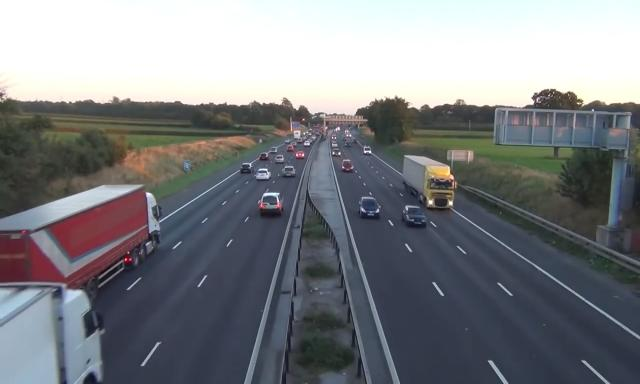caminhaog: (1, 184, 162, 302), (399, 155, 458, 209)
caminhaop: (0, 280, 107, 384)
carro: (259, 191, 283, 218), (402, 206, 427, 228), (358, 197, 380, 219), (255, 168, 272, 181), (341, 159, 354, 173), (282, 166, 296, 178), (240, 163, 253, 174), (362, 145, 373, 156), (295, 150, 306, 159), (259, 152, 269, 161), (275, 155, 285, 163), (332, 148, 340, 156), (287, 144, 294, 152), (270, 146, 277, 153), (290, 141, 297, 148), (304, 141, 311, 147), (332, 141, 338, 148), (284, 138, 290, 144), (297, 138, 303, 144), (345, 141, 351, 147), (341, 136, 347, 142), (352, 138, 357, 144)
van: (294, 130, 301, 140)
